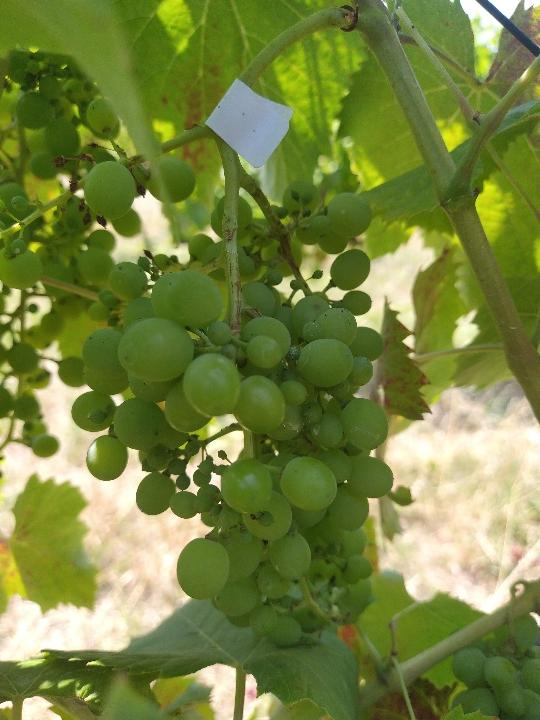grape: (50, 98, 405, 651)
